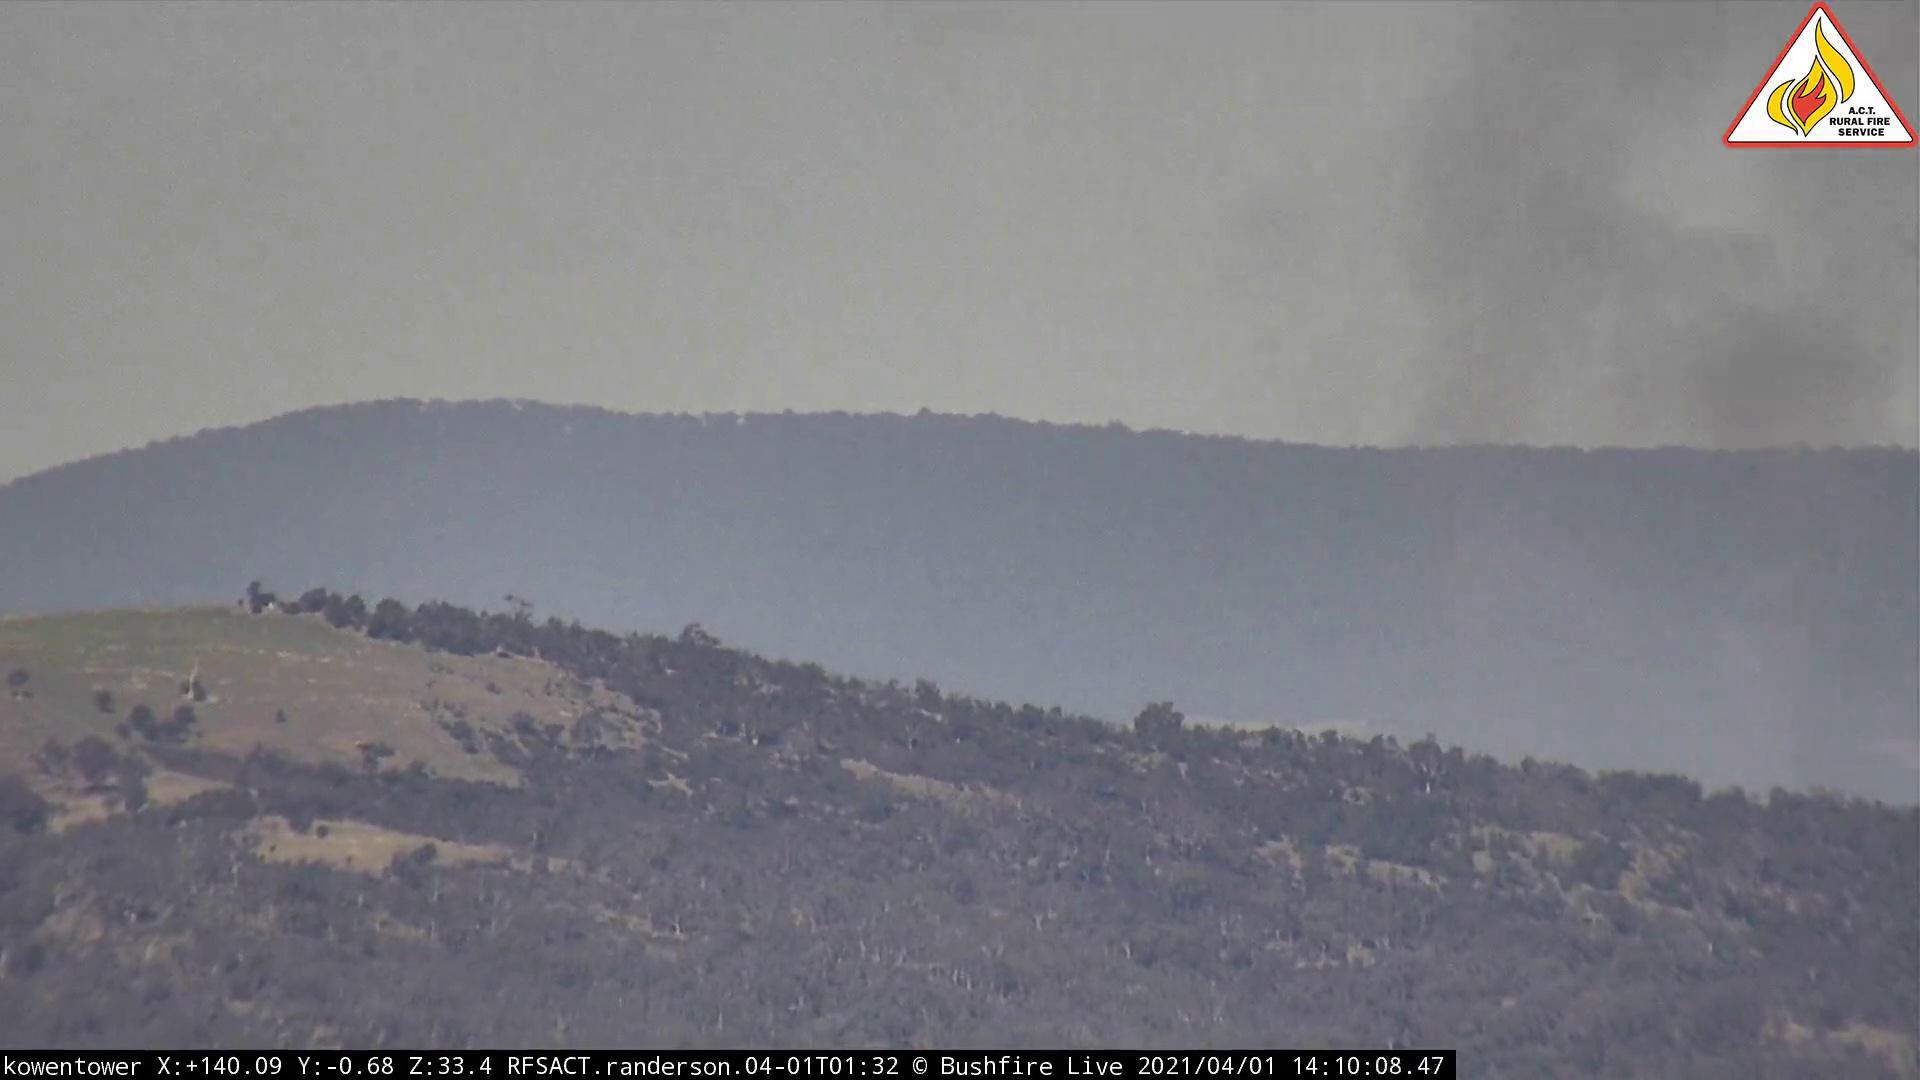Smoke: (1263, 178, 1920, 770)
